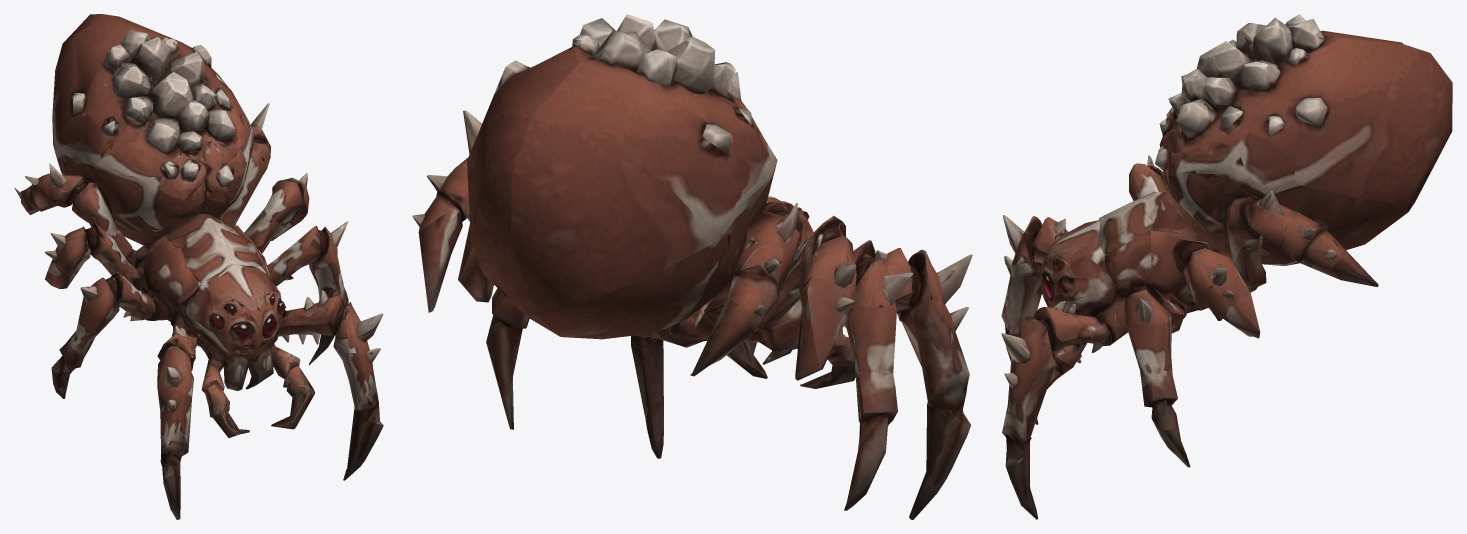
Rendered from brood_hunter.glb.
3 renders of one model, left to right at view 1: azimuth 30°, elevation 25°; view 2: azimuth 150°, elevation 25°; view 3: azimuth 270°, elevation 25°, orthographic. The views are drawn at different scales.
Parts seen in each view (by area): view 1: Mesh_0; view 2: Mesh_0; view 3: Mesh_0.
Part boxes in pixels (box(x1,y1,x2,y2)): Mesh_0: box(14, 14, 383, 519); Mesh_0: box(412, 14, 972, 519); Mesh_0: box(1001, 14, 1452, 519).
Bounding box in the file's own units: 1.42 × 1.9 × 1.73.
Materials: 1 (1 with a texture image).
